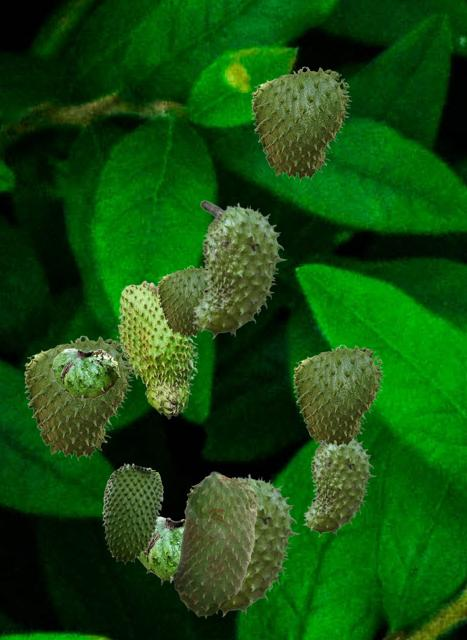guyabano: (24, 335, 134, 460), (191, 200, 286, 338), (209, 471, 299, 616), (172, 472, 258, 617), (251, 66, 351, 181), (116, 280, 198, 418), (293, 344, 384, 448), (302, 433, 375, 536), (102, 463, 162, 563), (157, 265, 208, 337), (51, 348, 119, 401), (137, 516, 184, 584)
